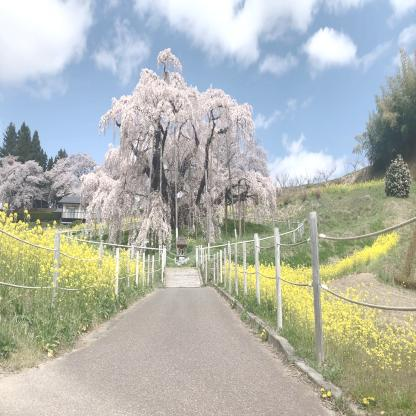ShidareZakura: (80, 46, 277, 253), (49, 150, 99, 212), (0, 150, 49, 213)
